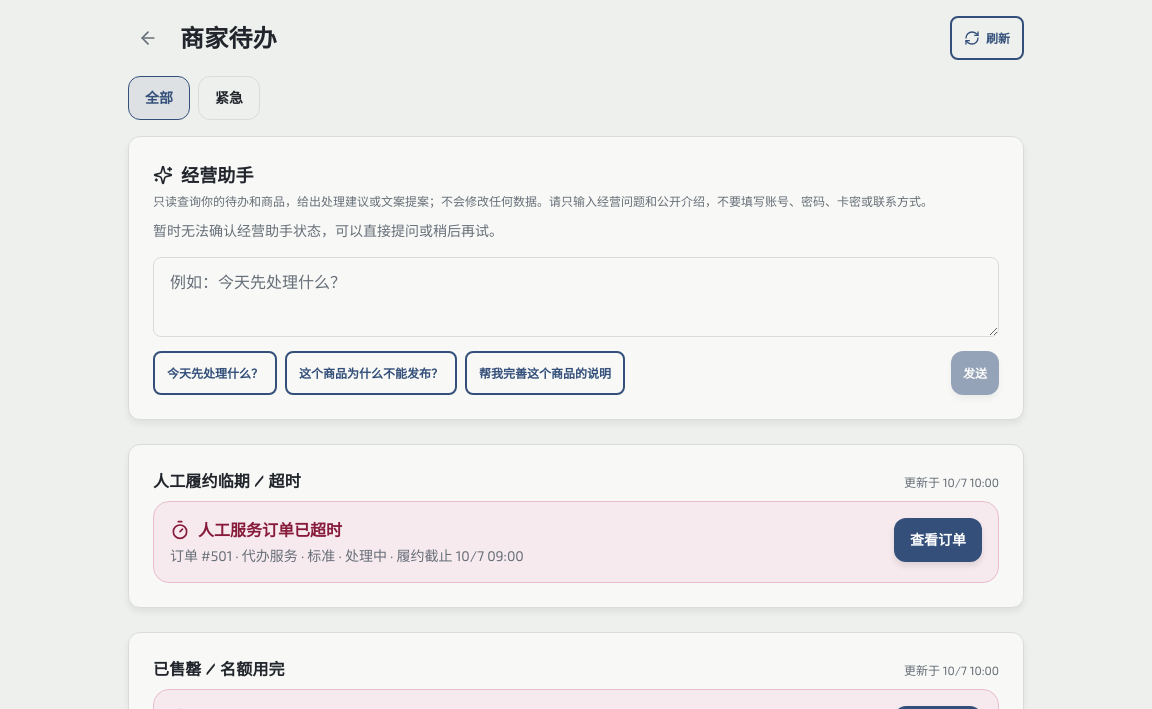
Scenario: WorkbenchPage › keeps cards of a failed group marked as stale and shows no empty state
The image size is (1152, 709).
Click the button with test id "workbench-refresh".
click(987, 38)  # box [950,16,1024,60]
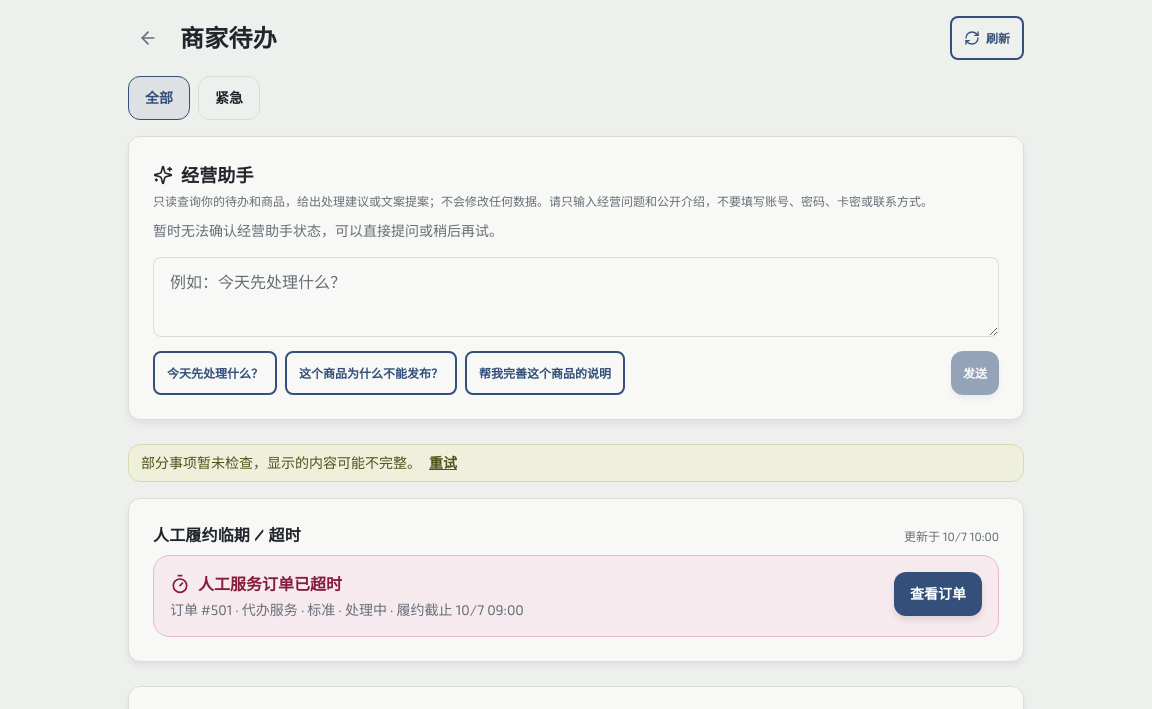
Expected: the message "部分事项暂未检查，显示的内容可能不完整。 重试" is shown, [128,444,1024,482]
